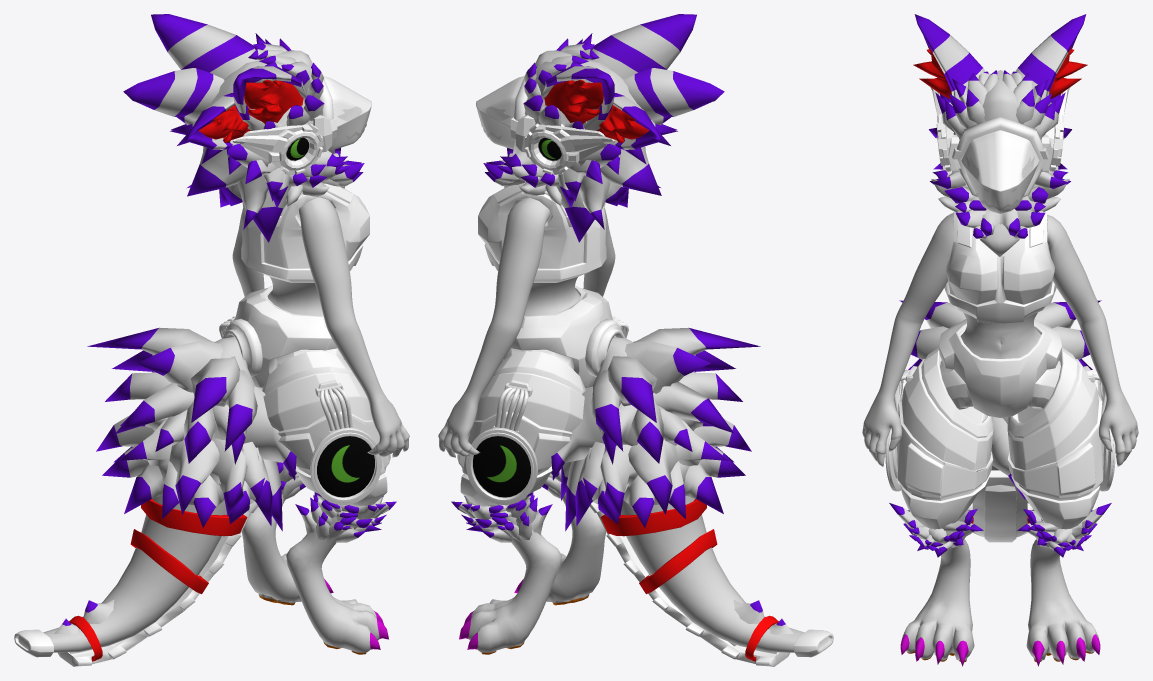
Rendered from AVA_Spawn_base.fbx.
3 views of the same model, side by side, from view 1: azimuth 30°, elevation 25°; view 2: azimuth 150°, elevation 25°; view 3: azimuth 270°, elevation 25° (orthographic). The views are drawn at different scales.
Visible parts, largest first — view 1: Body_mesh, Head_mesh, Arms_mesh; view 2: Body_mesh, Head_mesh, Arms_mesh; view 3: Body_mesh, Head_mesh, Arms_mesh, Facial_mesh.
Part boxes in pixels (left/top/right/bottom): Body_mesh: left=14, top=183, right=396, bottom=666; Head_mesh: left=123, top=14, right=371, bottom=242; Arms_mesh: left=232, top=197, right=409, bottom=457; Body_mesh: left=451, top=182, right=833, bottom=666; Head_mesh: left=476, top=14, right=724, bottom=242; Arms_mesh: left=438, top=197, right=615, bottom=457; Body_mesh: left=885, top=211, right=1115, bottom=666; Head_mesh: left=913, top=14, right=1087, bottom=256; Arms_mesh: left=862, top=212, right=1138, bottom=466; Facial_mesh: left=966, top=156, right=1034, bottom=210.
Size of the model in its own units: 89.68 by 63.4 by 148.
